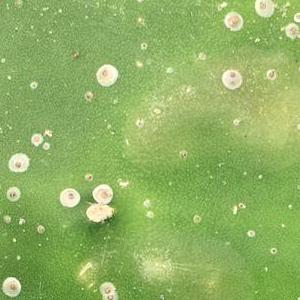Femea: (221, 67, 239, 87), (98, 64, 114, 85), (4, 275, 19, 296), (252, 1, 273, 16), (61, 188, 77, 205), (6, 158, 23, 171), (100, 286, 114, 299), (5, 186, 18, 199), (265, 70, 278, 80)
